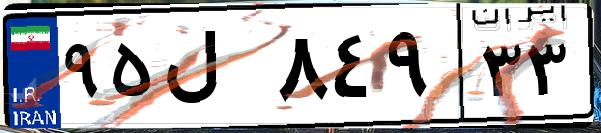3: (475, 38, 525, 113), (525, 38, 570, 115)
4: (330, 28, 385, 110)
5: (110, 28, 158, 98)
8: (270, 28, 330, 110)
9: (385, 28, 445, 110), (57, 26, 110, 100)
ل: (158, 20, 270, 120)
